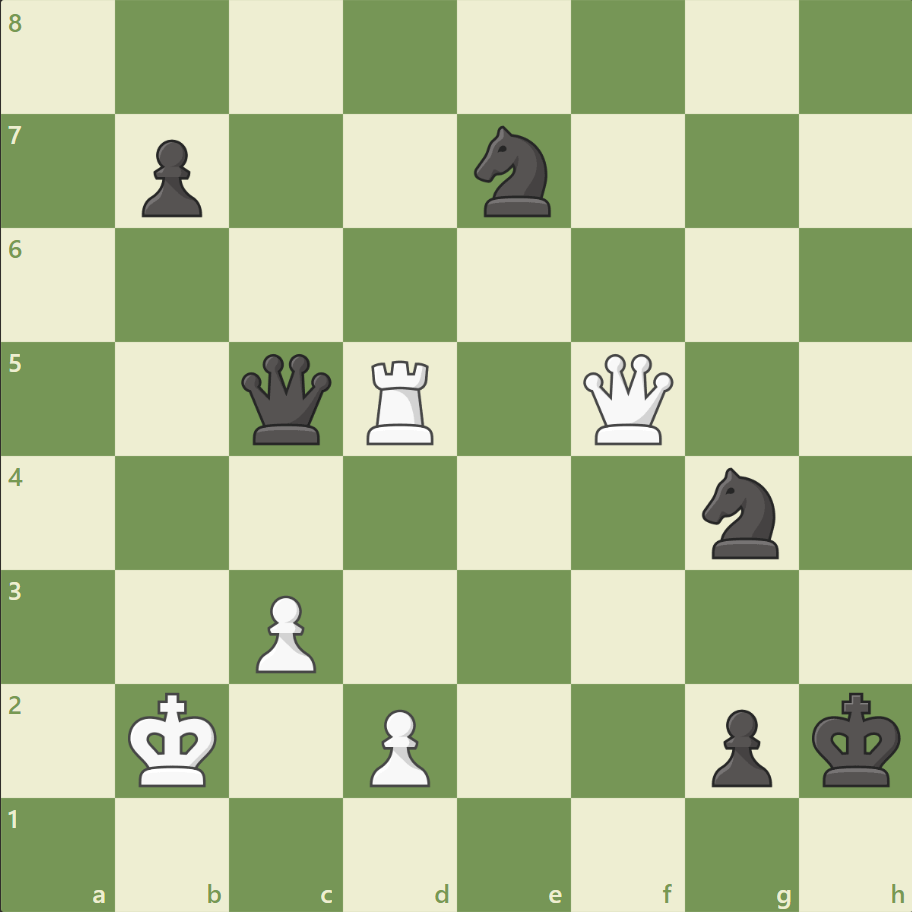K: (124, 685, 224, 793)
P: (247, 586, 322, 677), (361, 700, 435, 791)
Q: (578, 349, 677, 449)
R: (360, 352, 442, 449)
k: (806, 685, 906, 793)
n: (692, 461, 789, 564), (465, 121, 562, 223)
p: (133, 132, 208, 223), (701, 700, 776, 791)
q: (237, 349, 336, 449)
